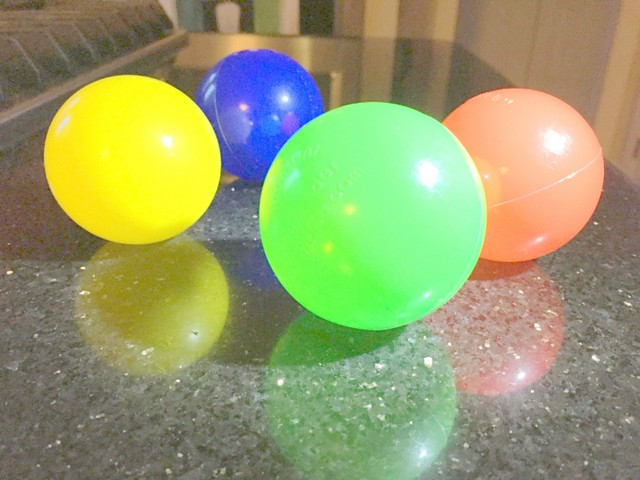ball: (195, 49, 326, 182)
